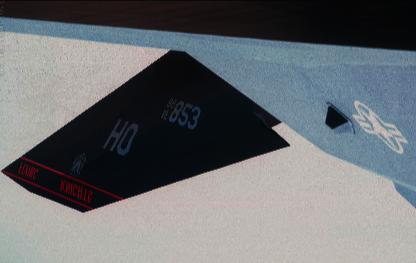E7: (0, 0, 415, 213)
